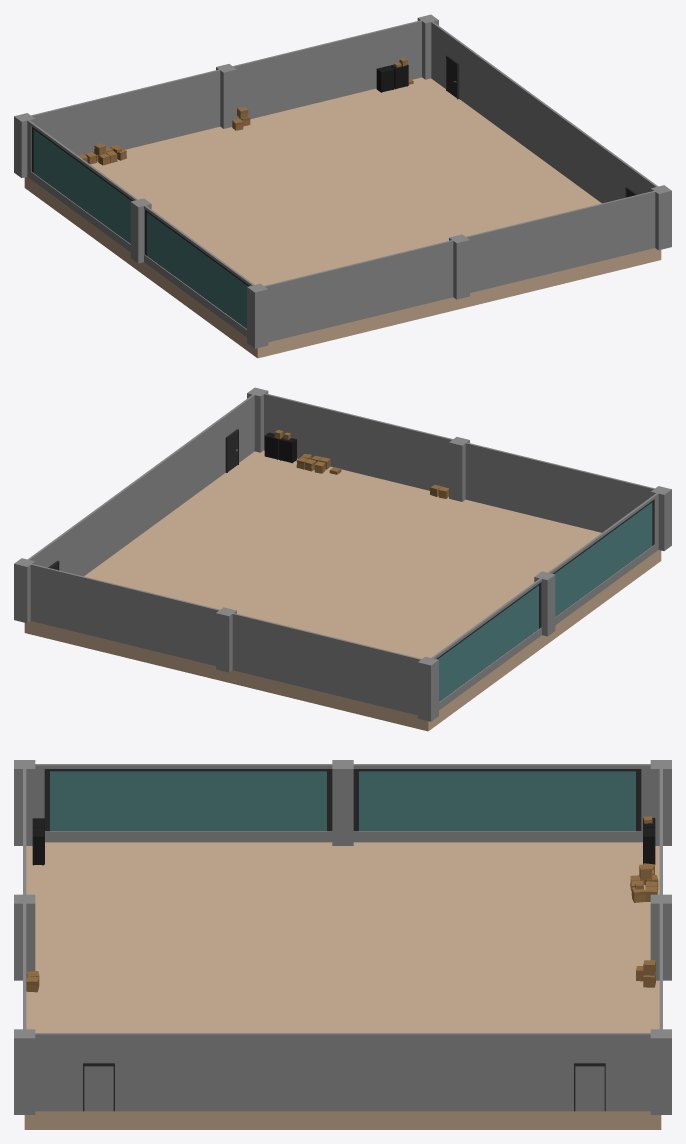
Rendered from office.glb.
3 views of the same model, one above another, from view 1: azimuth 30°, elevation 25°; view 2: azimuth 150°, elevation 25°; view 3: azimuth 270°, elevation 25° (orthographic). The views are drawn at different scales.
Parts seen in each view (by area): view 1: Floor, LeftWall, RightWall, Frame, Front, Cube.033, Cube.035, Cube.024, Cube.025, Cube.026, Cube.034, Cube.036; view 2: Floor, RightWall, LeftWall, Frame, Front, Cube.034, Cube.025, Cube.036, Cube.024, Cube.026, Cube.033, Cube.035; view 3: Floor, Front, Frame, Cube.036, Cube.035, Cube.026, Cube.024, Cube.033, Cube.025, Cube.034, LeftWall, RightWall (+1 smaller).
Part boxes in pixels (x1,y1,x2,y2): Floor: (24, 77, 661, 358); LeftWall: (262, 191, 655, 342); RightWall: (24, 18, 428, 155); Frame: (24, 117, 257, 337); Front: (428, 19, 661, 203); Cube.033: (247, 283, 268, 348); Cube.035: (650, 185, 671, 250); Cube.024: (449, 234, 469, 299); Cube.025: (216, 64, 236, 128); Cube.026: (130, 198, 151, 263); Cube.034: (14, 113, 35, 177); Cube.036: (417, 14, 438, 79); Floor: (24, 450, 661, 731); RightWall: (25, 562, 426, 715); LeftWall: (257, 391, 661, 532); Frame: (428, 490, 661, 710); Front: (24, 392, 257, 576); Cube.034: (417, 656, 438, 721); Cube.025: (216, 607, 236, 672); Cube.036: (14, 558, 35, 623); Cube.024: (449, 437, 469, 501); Cube.026: (534, 571, 555, 636); Cube.033: (650, 486, 671, 550); Cube.035: (247, 387, 268, 452); Floor: (24, 842, 661, 1129); Front: (25, 1033, 660, 1111); Frame: (25, 764, 661, 842); Cube.036: (650, 1029, 671, 1114); Cube.035: (14, 1029, 35, 1114); Cube.026: (332, 760, 353, 845); Cube.024: (14, 894, 35, 980); Cube.033: (14, 760, 35, 845); Cube.025: (650, 894, 671, 980); Cube.034: (650, 760, 671, 845); LeftWall: (23, 764, 26, 1033); RightWall: (659, 764, 662, 1033).
Size of the model in its own units: 62 by 18 by 62.
